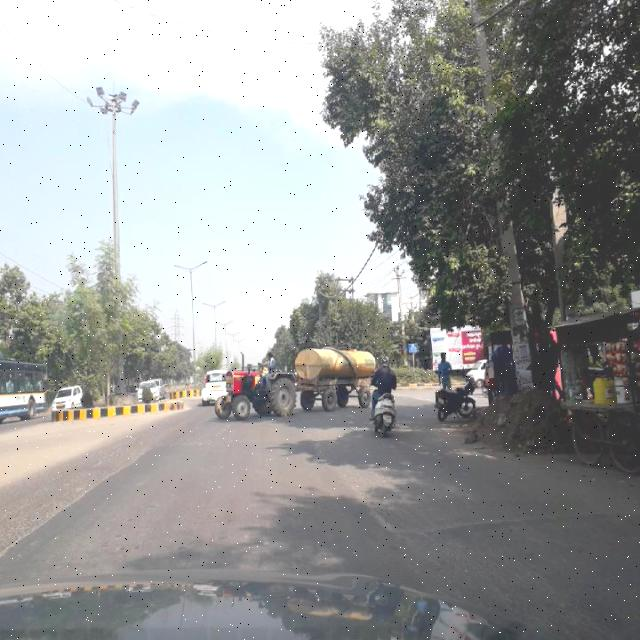D00: (2, 439, 138, 557), (342, 458, 396, 546)
D10: (398, 498, 640, 546)
